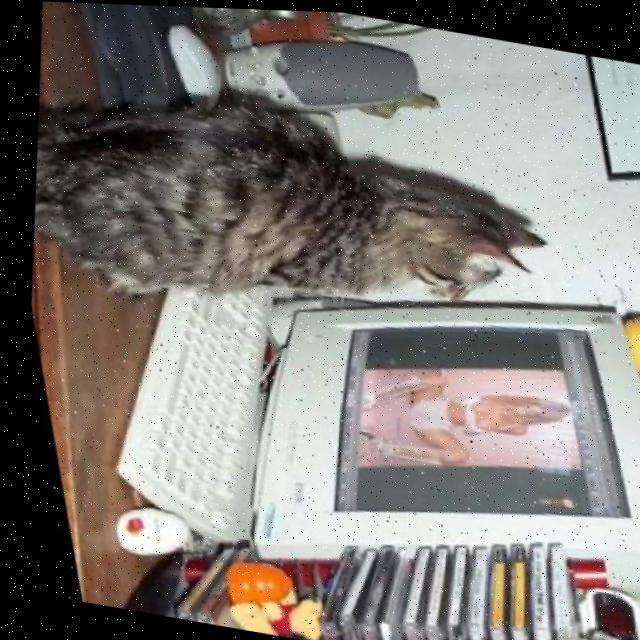Cats: (0, 0, 612, 436)
